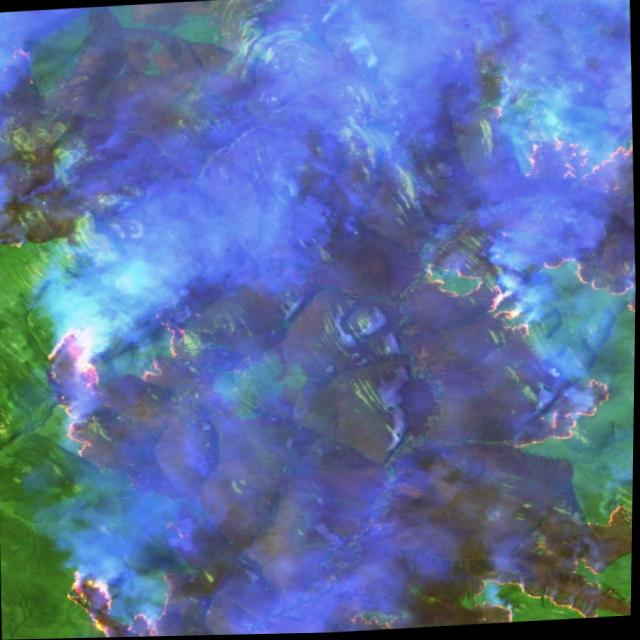fire: (0, 106, 639, 640)
